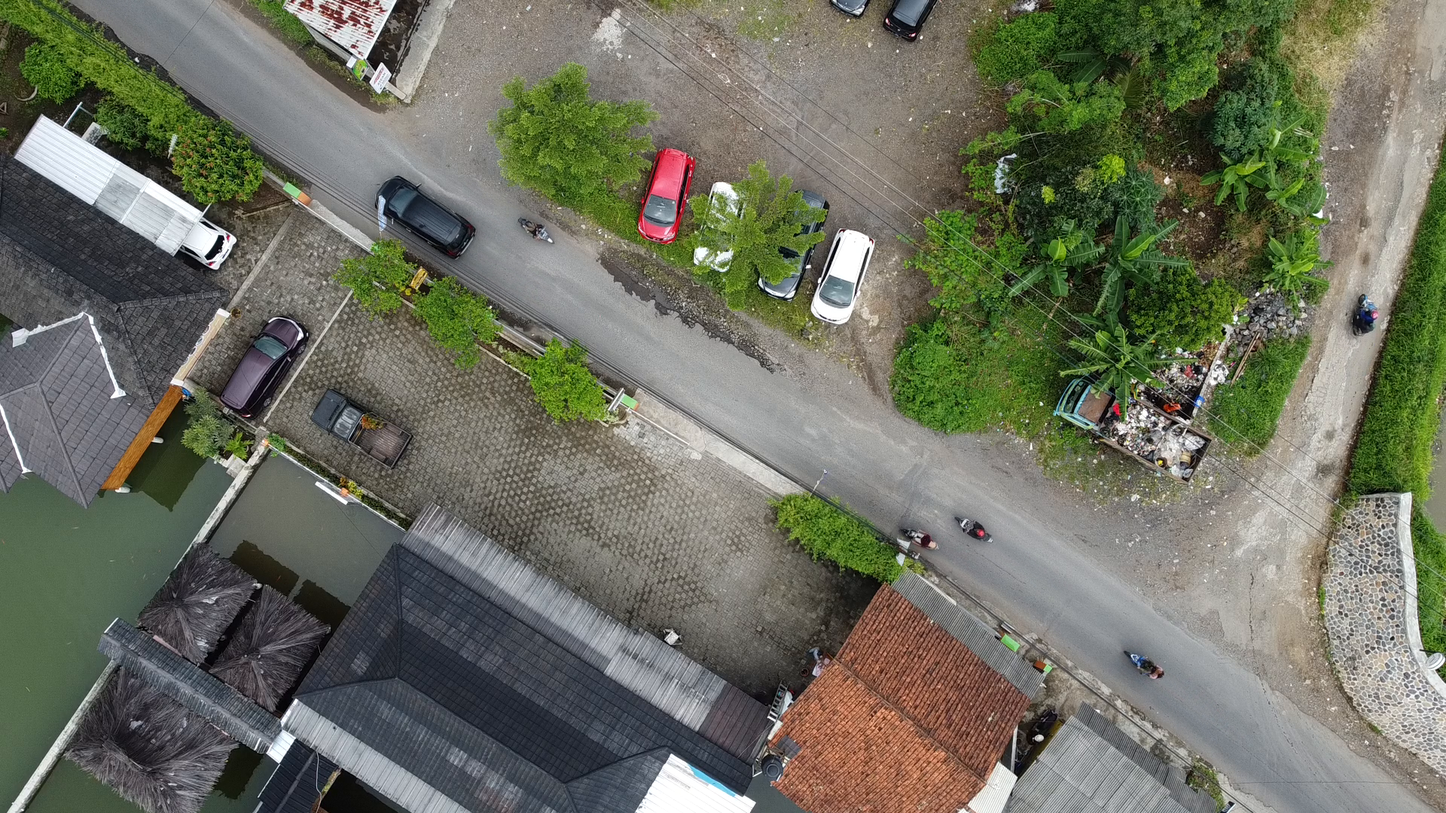mobil: (197, 308, 317, 425), (298, 367, 419, 471), (370, 169, 487, 263), (805, 211, 892, 333), (753, 180, 833, 311), (688, 172, 755, 277), (636, 138, 703, 239), (175, 207, 243, 275), (874, 1, 955, 49)
